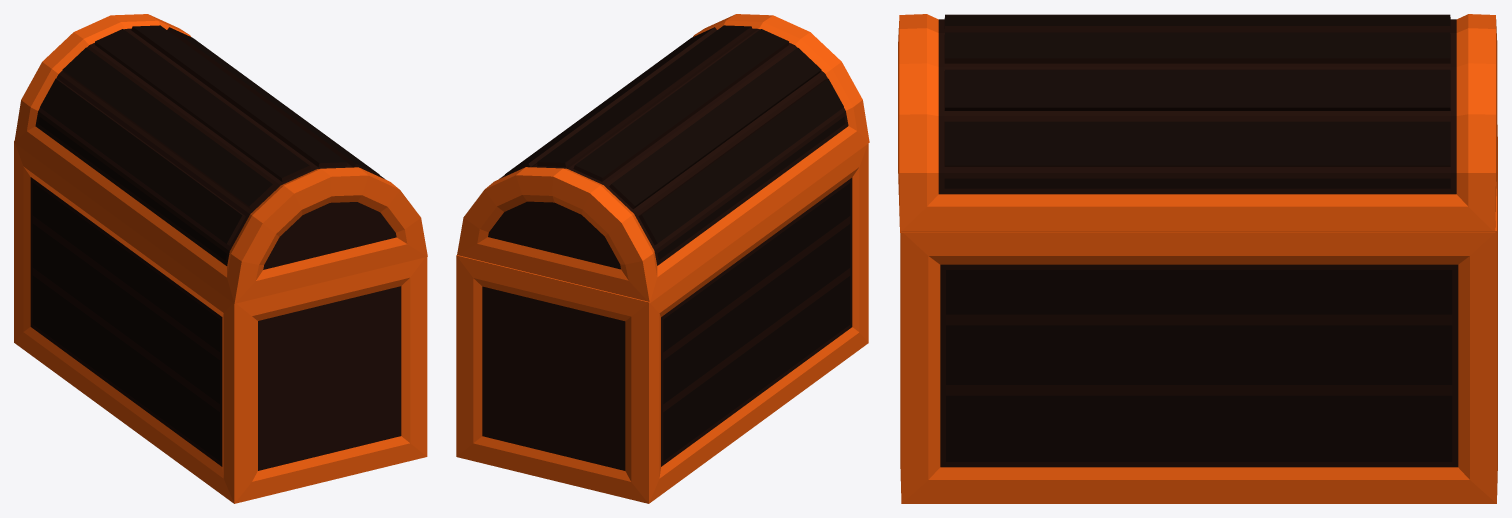
The model's file is Closed Treasure Chest.FBX.
3 renders of one model, left to right at view 1: azimuth 30°, elevation 25°; view 2: azimuth 150°, elevation 25°; view 3: azimuth 270°, elevation 25°, orthographic. The views are drawn at different scales.
Parts seen in each view (by area): view 1: Closed Treasure Chest; view 2: Closed Treasure Chest; view 3: Closed Treasure Chest.
Boxes of the visible parts, bbox=[...] form: Closed Treasure Chest: bbox=[14, 14, 427, 503]; Closed Treasure Chest: bbox=[456, 14, 869, 503]; Closed Treasure Chest: bbox=[898, 14, 1497, 503].
Size of the model in its own units: 0.5149 by 0.7767 by 1.02.
